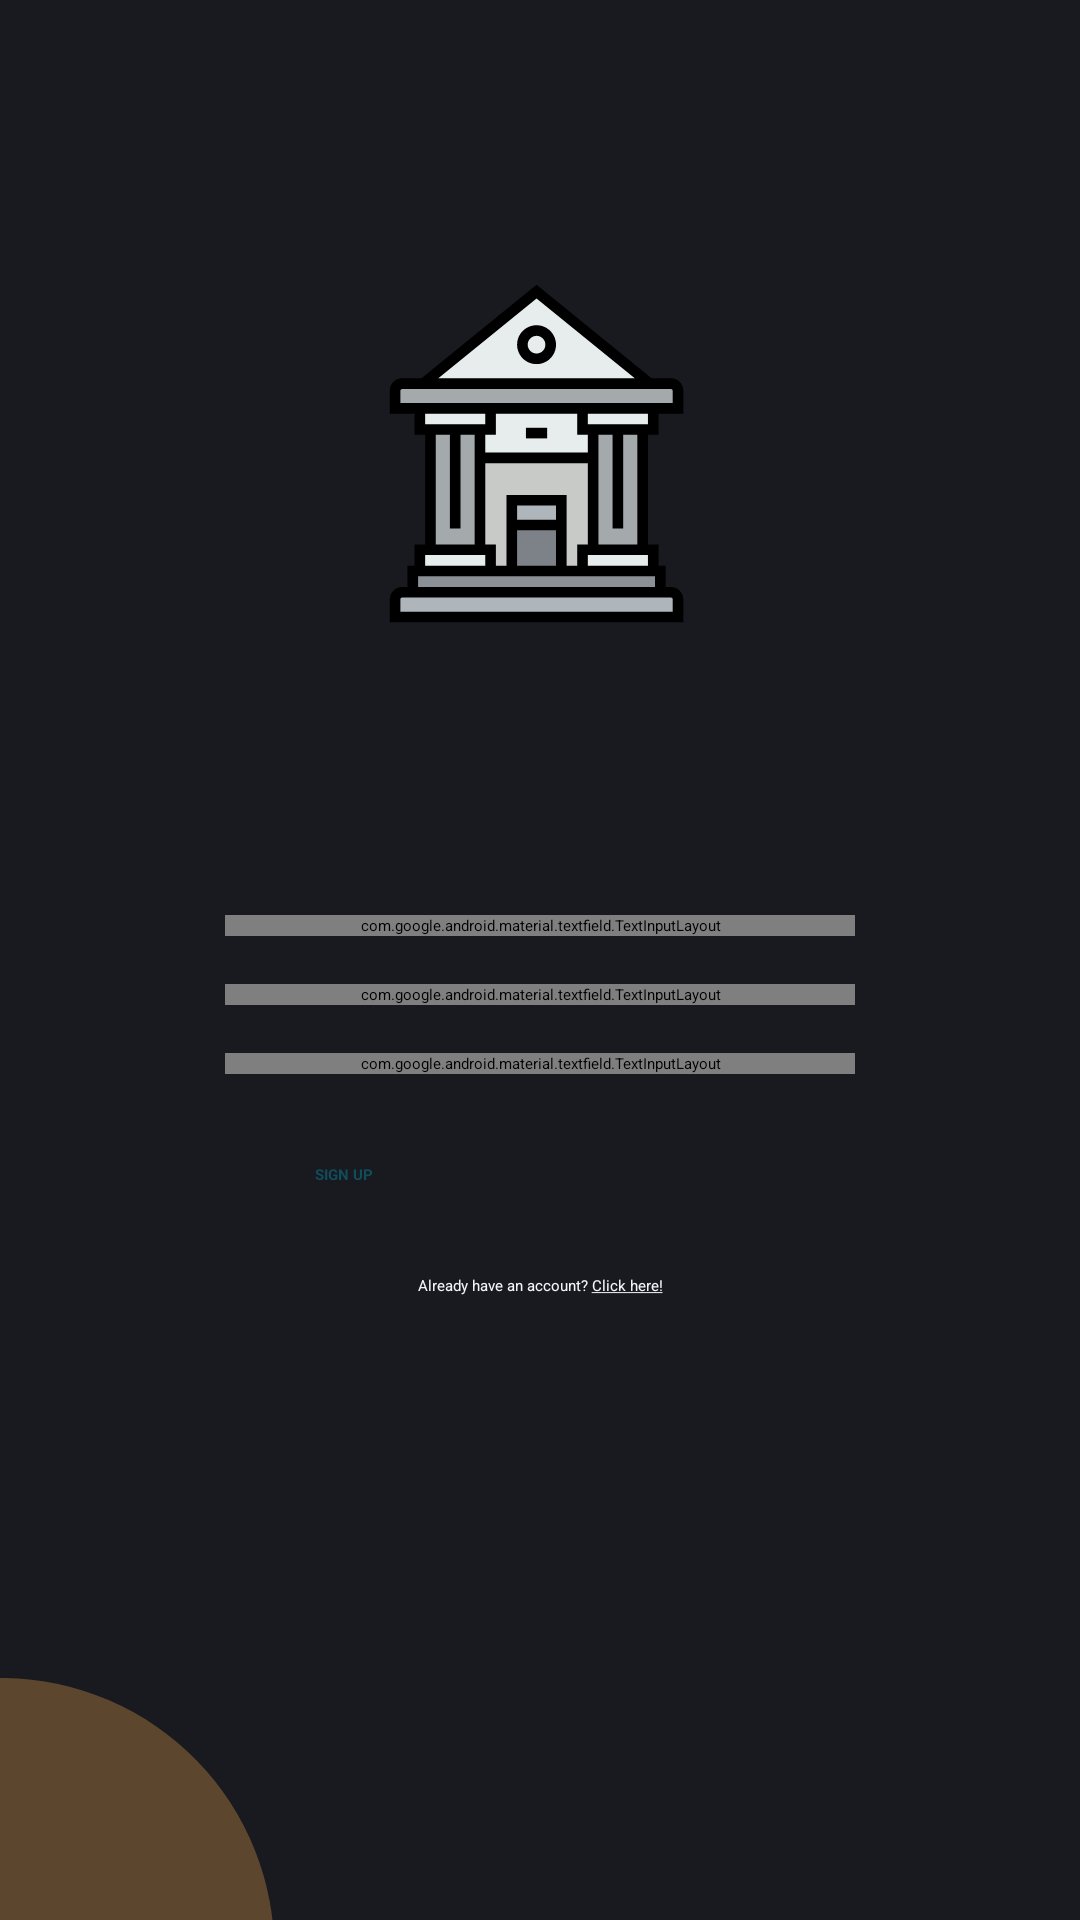

Icons on this 1080 x 1920 Android screen, each with the point to tap as (x,y):
bank: (536,453)
